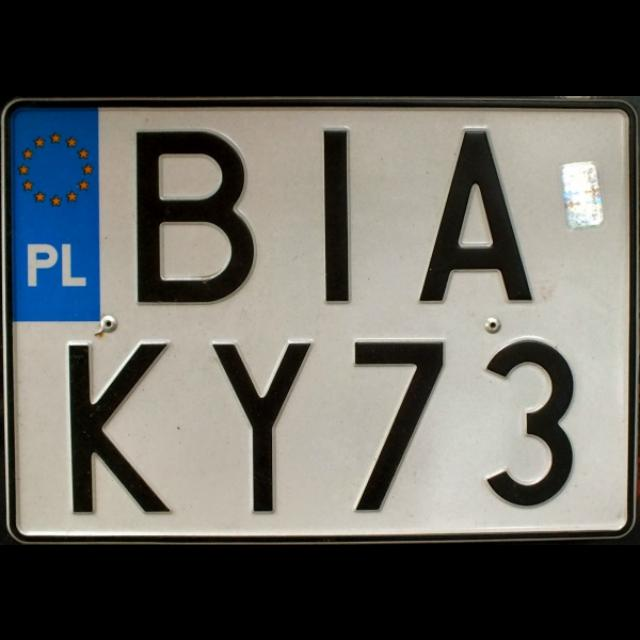pl_license_plate: (11, 105, 625, 528)
